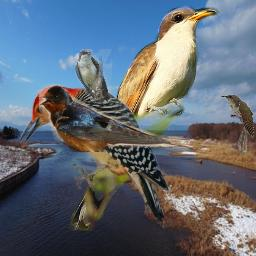Cuckoo: (67, 2, 221, 235), (221, 94, 254, 154)
Swallow: (39, 84, 189, 152), (75, 49, 112, 105)
Woodpecker: (19, 85, 173, 230)
